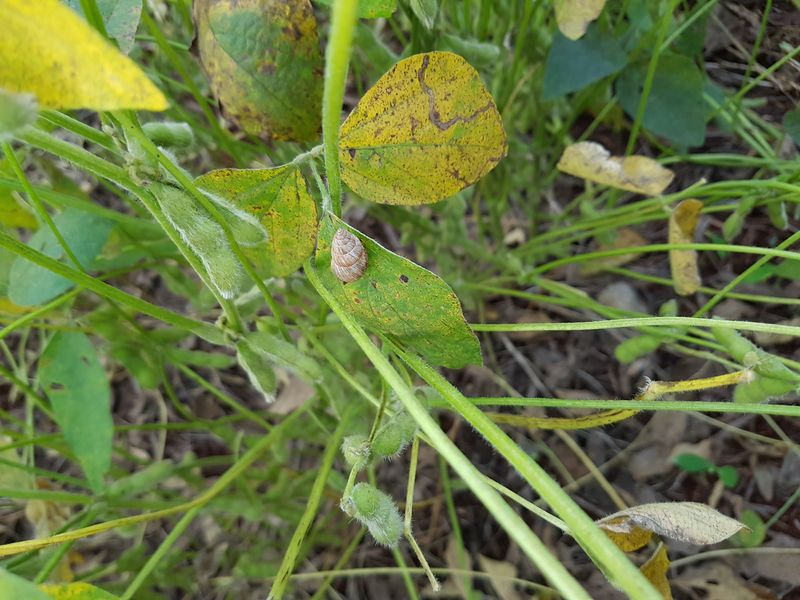Gastropoda: (313, 222, 383, 291)
